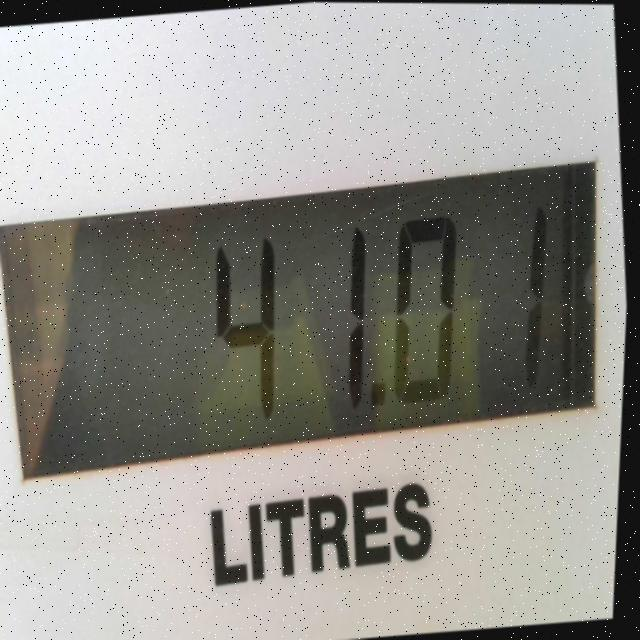.: (375, 381, 393, 407)
0: (382, 214, 479, 412)
1: (508, 203, 569, 393), (334, 225, 386, 409)
4: (208, 235, 292, 410)
